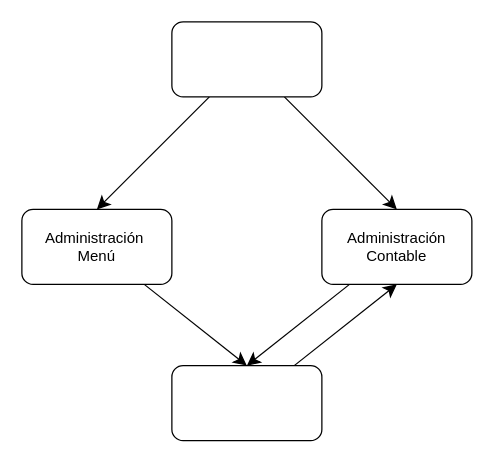
Some shapes in this 494 by 463 pixel diagram are drawn without their labels. Here are the shapes that lost their labels. From the top down, the box of each, then its label:
(171, 21, 322, 97): Administración Stock
(171, 364, 322, 441): Registro Consumo
